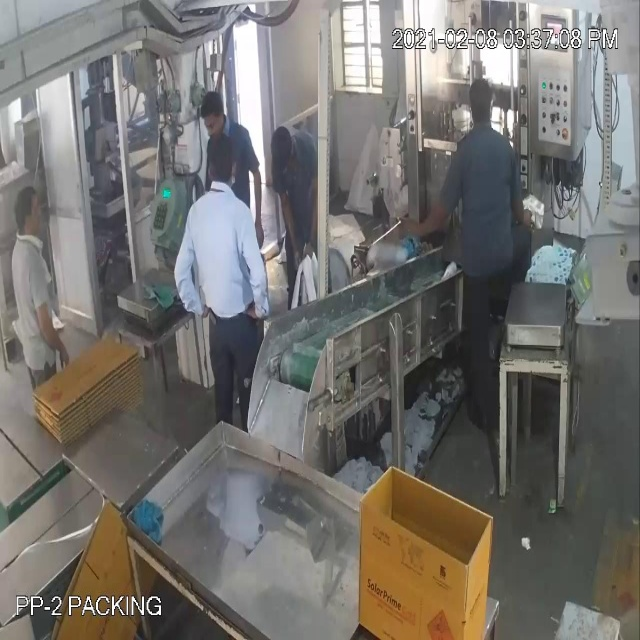Sin_guantes: (241, 146, 270, 262), (26, 285, 63, 366), (392, 194, 451, 238), (278, 183, 305, 276)
